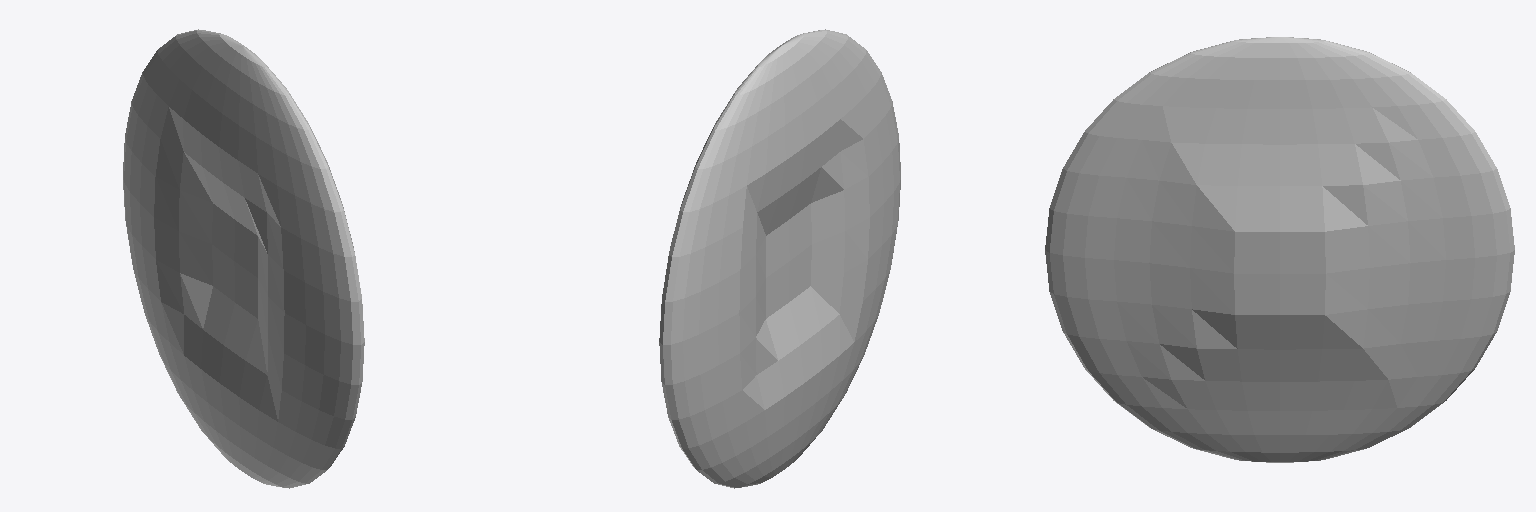
The model's file is shield_000002.obj.
3 renders of one model, left to right at view 1: azimuth 30°, elevation 25°; view 2: azimuth 150°, elevation 25°; view 3: azimuth 270°, elevation 25°, orthographic.
Size of the model in its own units: 0.3657 by 2 by 2.